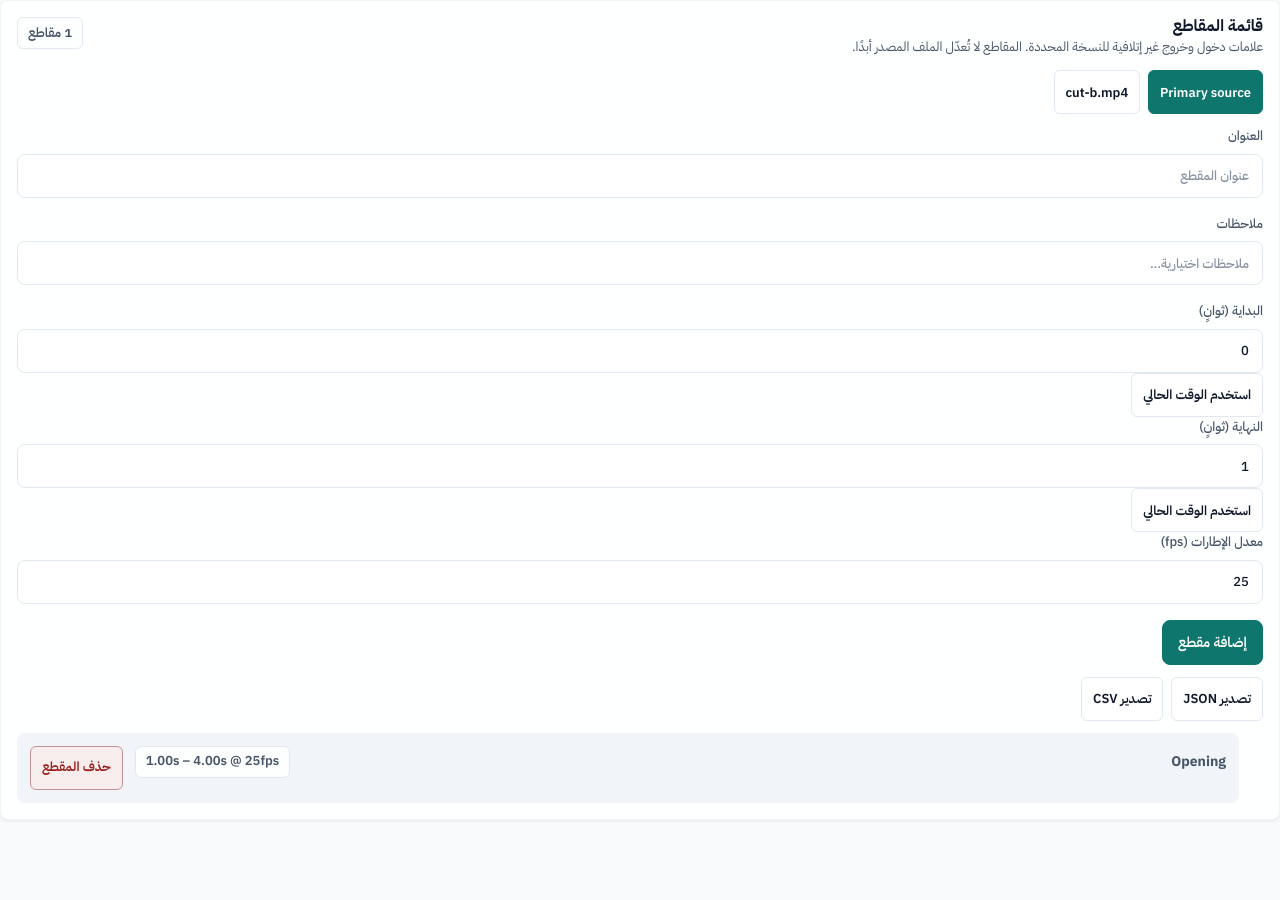
Scenario: ClipListPanel › deletes a clip after confirmation
The image size is (1280, 900).
Check: the text "Opening" is shown, box [1171, 750, 1226, 773]
Click the button "حذف المقطع". click: {"x": 76, "y": 768}
box: [30, 746, 123, 790]
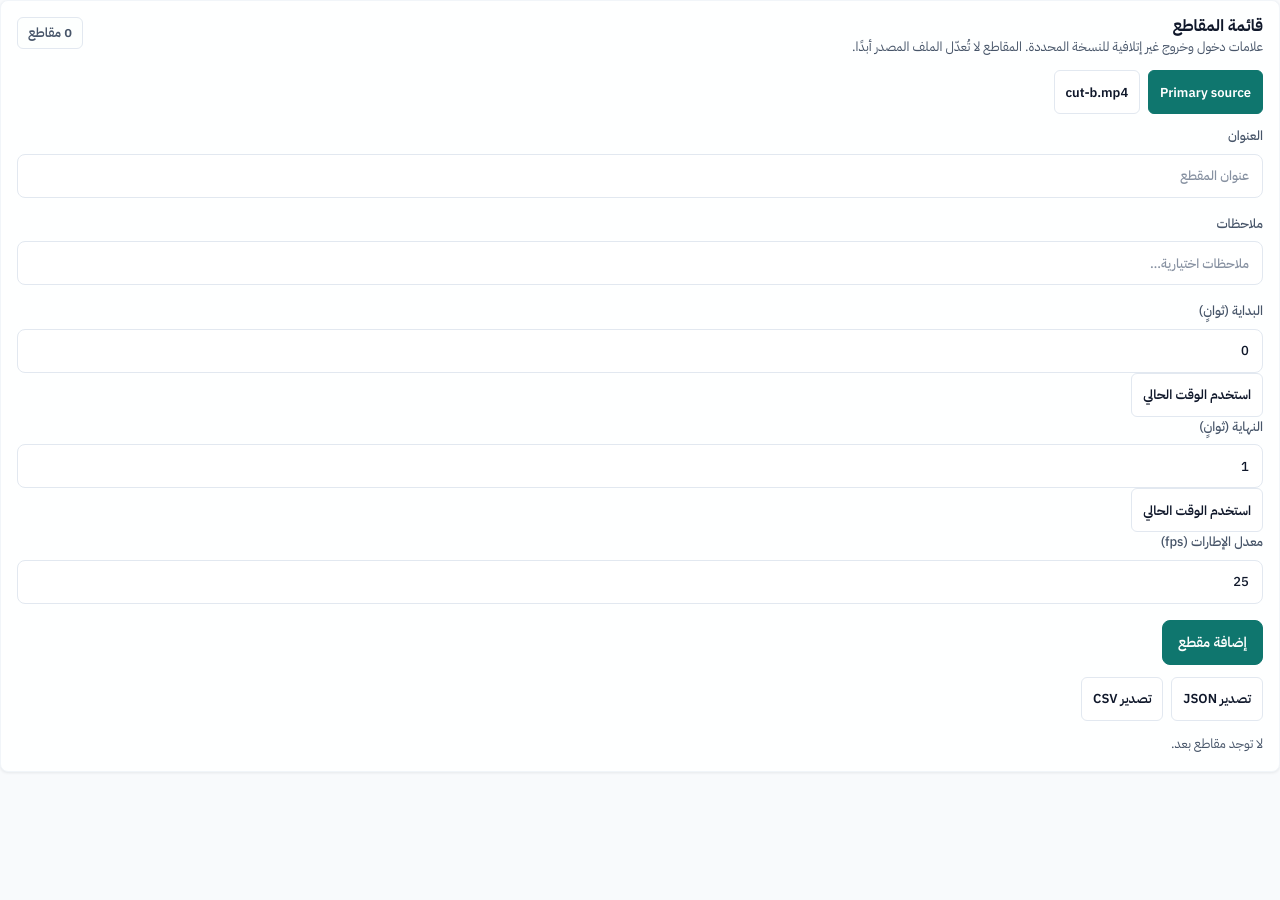
Check: the text "Opening" is gone
